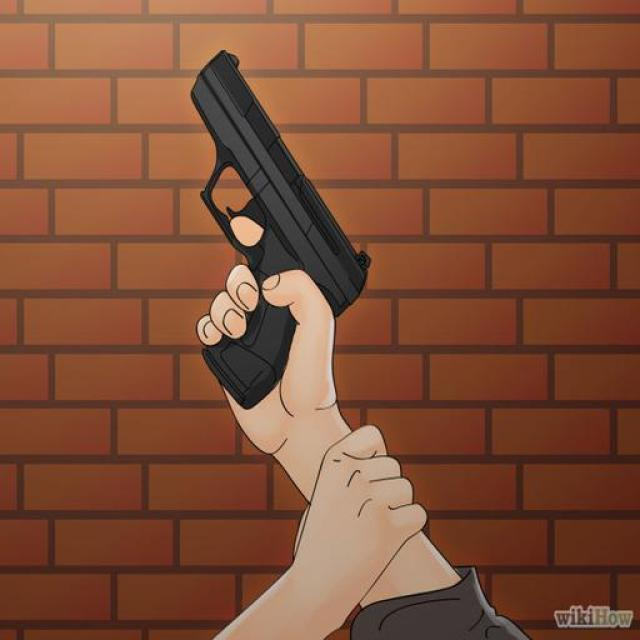pistol: (178, 50, 376, 417)
